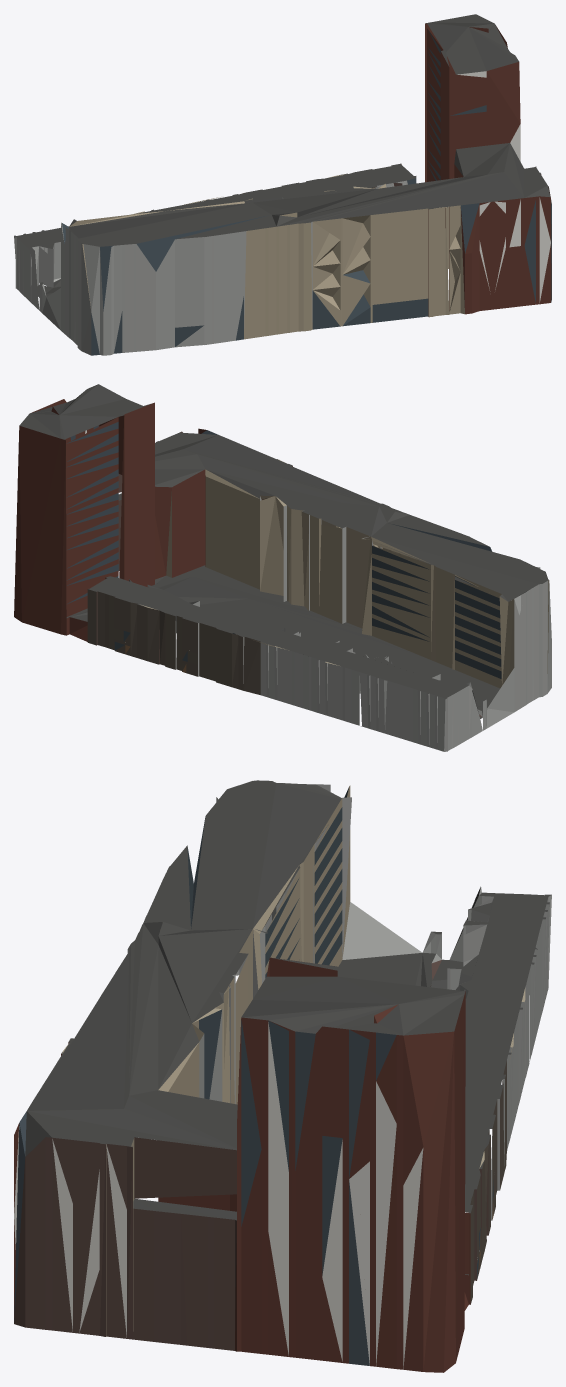
The model's file is rinus-michelslaan-1.lod2.glb.
3 renders of one model, top to bottom at view 1: azimuth 30°, elevation 25°; view 2: azimuth 150°, elevation 25°; view 3: azimuth 270°, elevation 25°, orthographic. The views are drawn at different scales.
Parts seen in each view (by area): view 1: lod2; view 2: lod2; view 3: lod2.
Boxes of the visible parts, x1,y1,x2,y2 form: lod2: (14, 14, 551, 355); lod2: (14, 384, 551, 751); lod2: (14, 780, 551, 1372).
Size of the model in its own units: 127 by 50.68 by 72.27.
